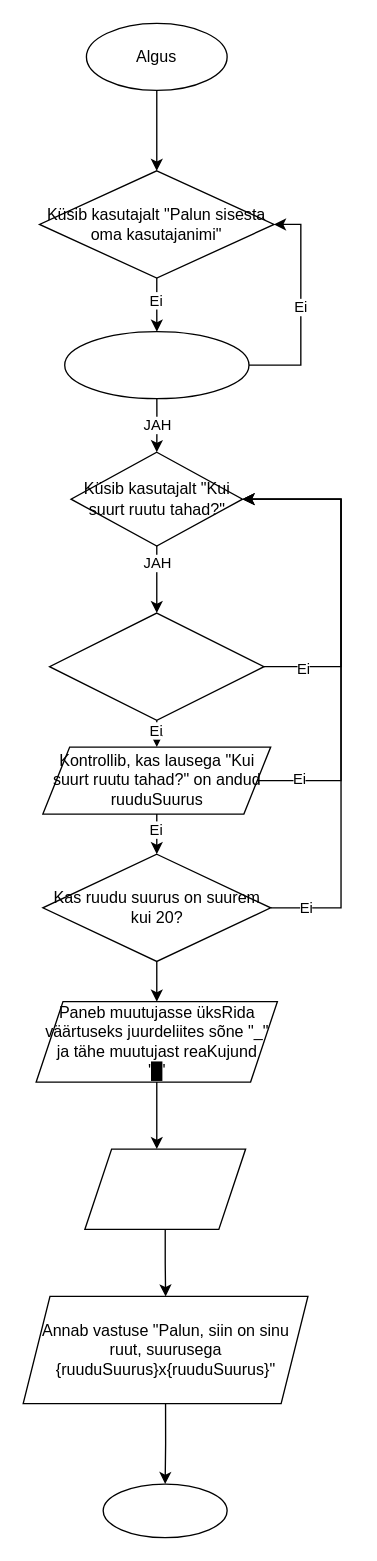
Image size: 377x1561. Some labels were removed from this diagram. Each missing label, with the centre of its shape:
Kas ruudu suurus on väiksem kui 0?: the point at 156,666
kasutajaNimi == "user1": the point at 156,364
Lõpp: the point at 164,1510
Näitab vastavalt käskule ruutu: the point at 164,1188
